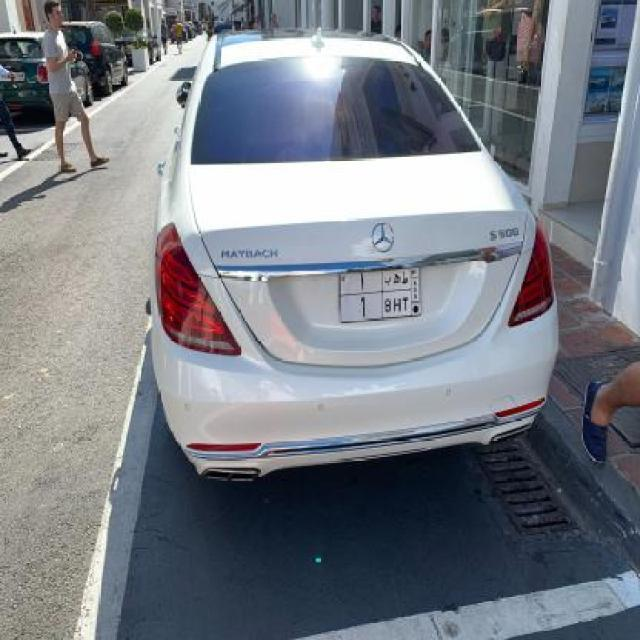license_plate: (336, 266, 422, 325)
